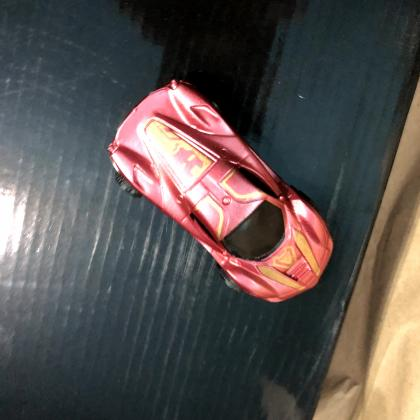Car: (106, 78, 336, 306)
